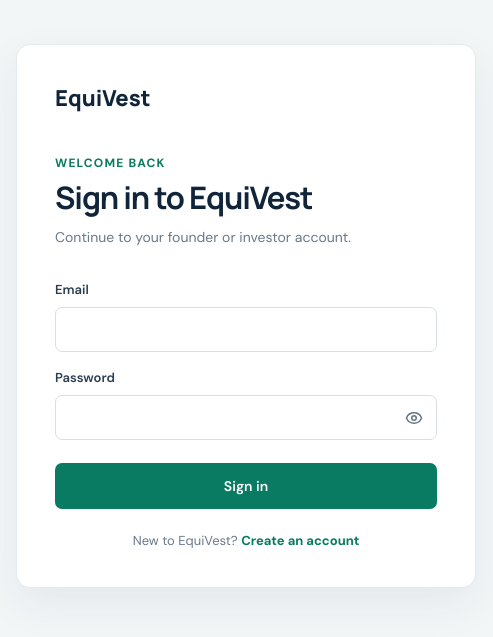
Test: authentication forms and session behaviors › shows server error message on invalid login credentials
This screenshot has width=493, height=637.
In the field labelled "Email": (246, 330) [55,307,437,352], type "wrong@equivest.dev"
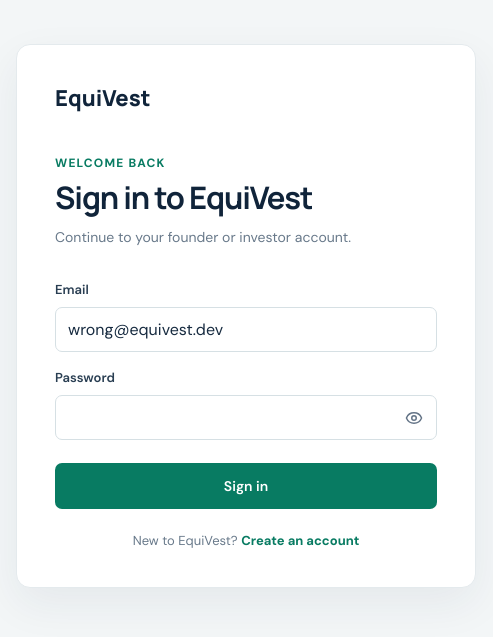
In the password field labelled "Password": (246, 418) [55,395,437,440], type "wrongpass"
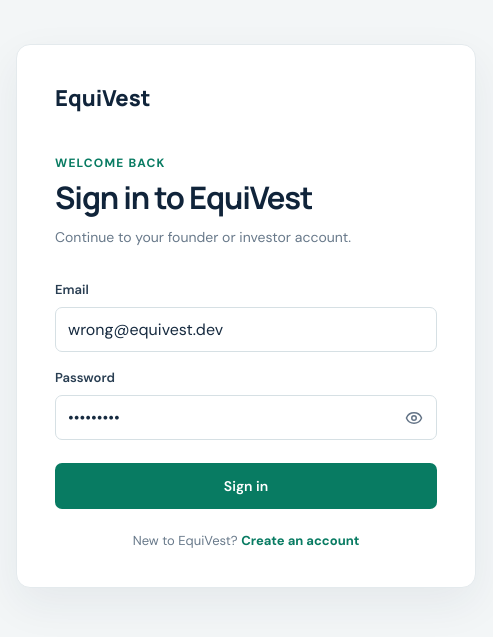
Click the button "Sign in": (246, 486) [55,463,437,509]
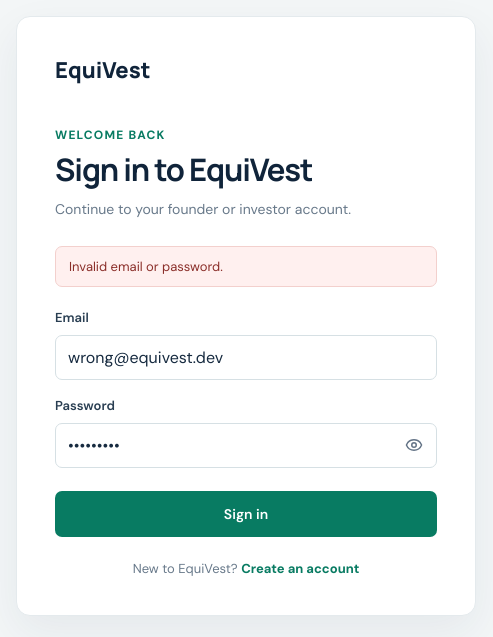
expect the message reads "Invalid email or password.": met, box [69,258,223,275]
